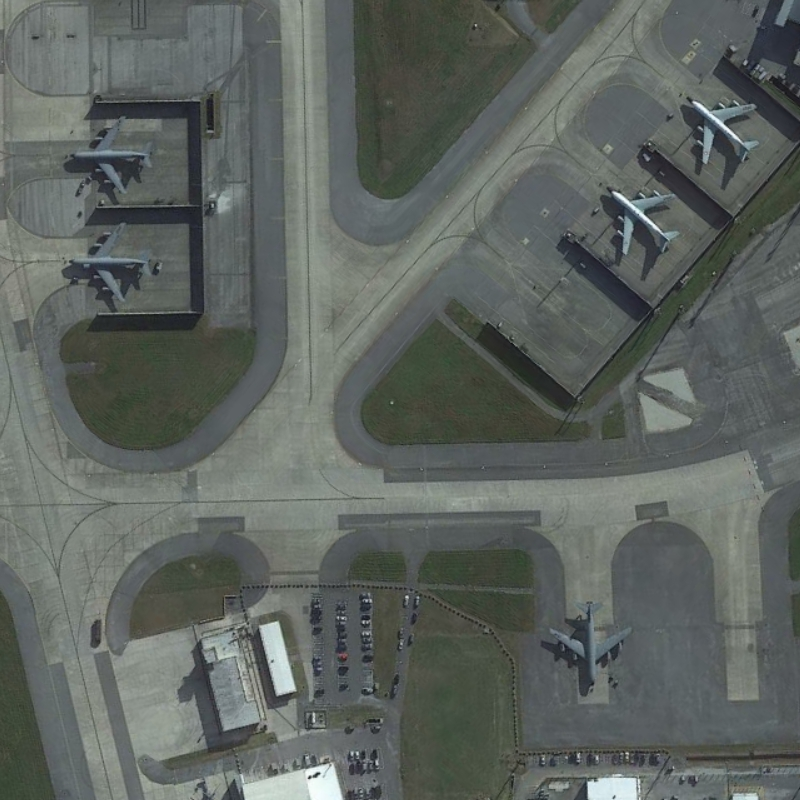A11: (600, 178, 686, 266), (680, 88, 765, 169)
A14: (537, 591, 638, 697), (52, 109, 160, 200), (64, 215, 157, 307)
